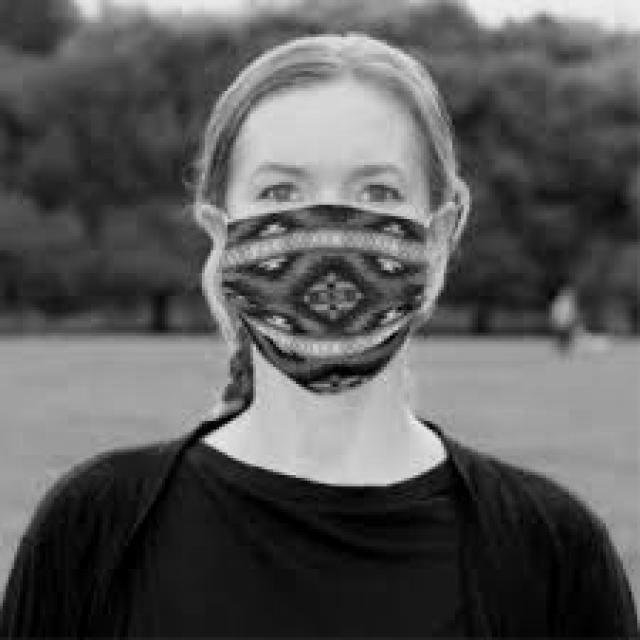fake: (217, 213, 438, 395)
real: (226, 91, 430, 405)
